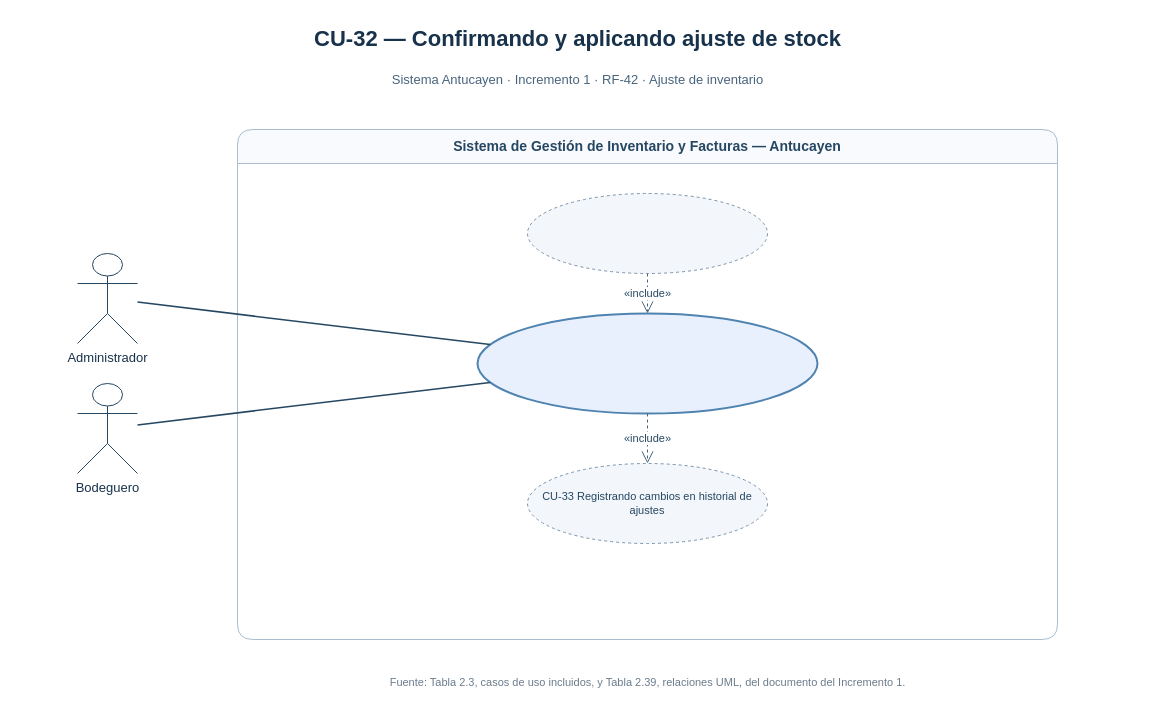
Some shapes in this 1154 by 712 pixel diagram are drawn without their labels. The shapes that lost their labels are listed below. From the top down, each one's centre as x and y in pixels, then its label:
the point at 647,233: CU-31 Previsualizando ajuste de inventario
the point at 647,363: CU-32 Confirmando y aplicando ajuste de stock
